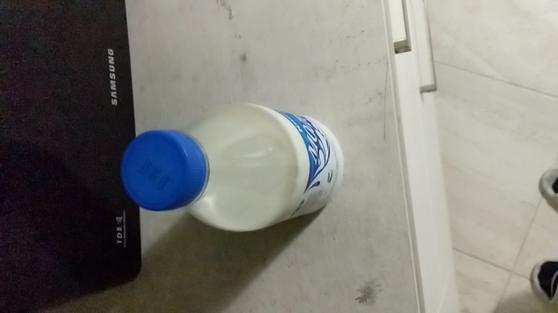milk: (119, 87, 357, 239)
